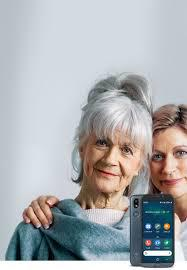0: (86, 139, 130, 195), (151, 143, 187, 193)
1: (22, 197, 65, 222)
Smartphone: (135, 197, 177, 270)
